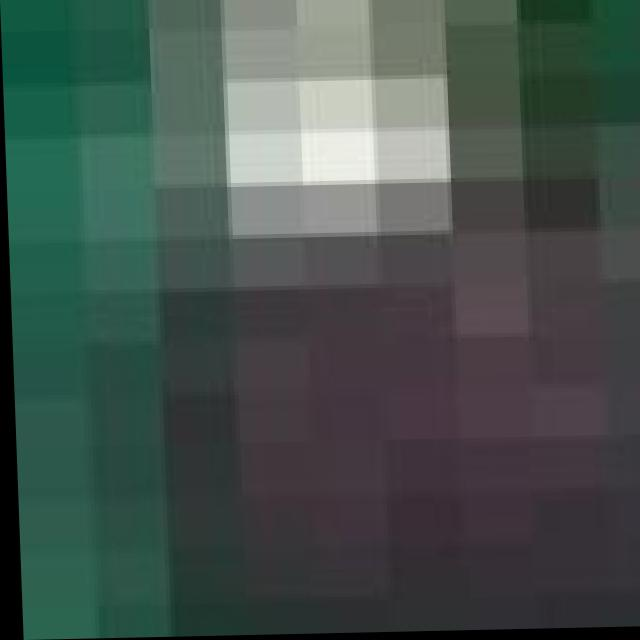transistor: (32, 0, 640, 639)
